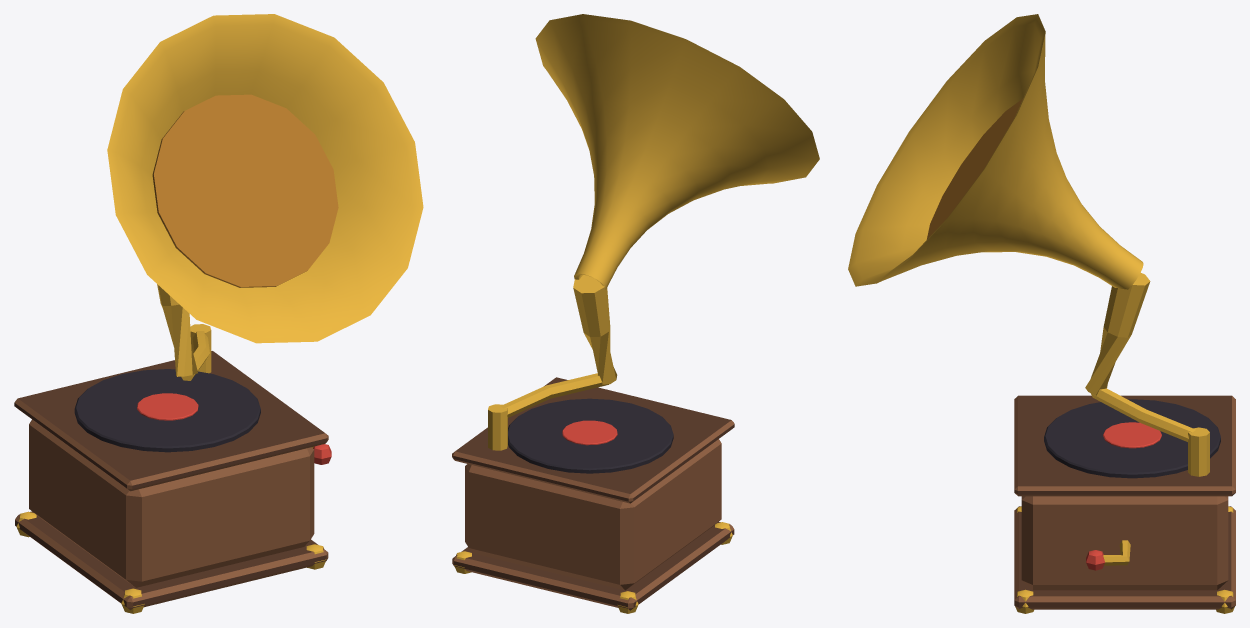
File: chairs_gramophone.glb
The picture shows the model from 3 angles, left to right: view 1: azimuth 30°, elevation 25°; view 2: azimuth 150°, elevation 25°; view 3: azimuth 270°, elevation 25°; orthographic projection. The views are drawn at different scales.
Visible parts, largest first — view 1: chairs_gramophone; view 2: chairs_gramophone; view 3: chairs_gramophone.
Part boxes in pixels (left/top/right/bottom): chairs_gramophone: left=14, top=14, right=423, bottom=613; chairs_gramophone: left=452, top=14, right=819, bottom=613; chairs_gramophone: left=848, top=14, right=1235, bottom=613.
Size of the model in its own units: 0.89 by 1.61 by 1.05.
